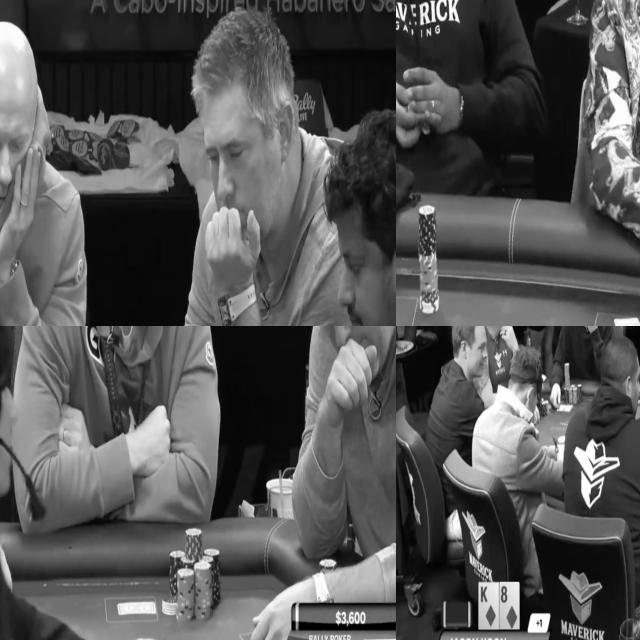8D: (500, 582, 519, 629)
KD: (479, 582, 500, 630)
